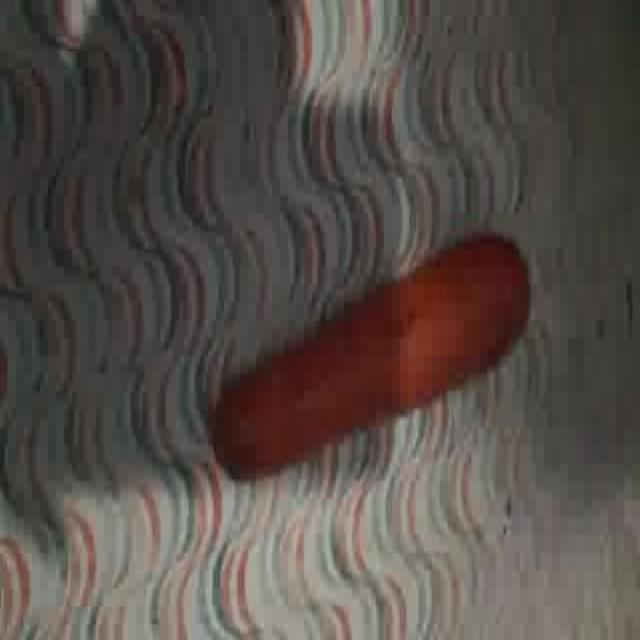carrot: (211, 235, 528, 476)
